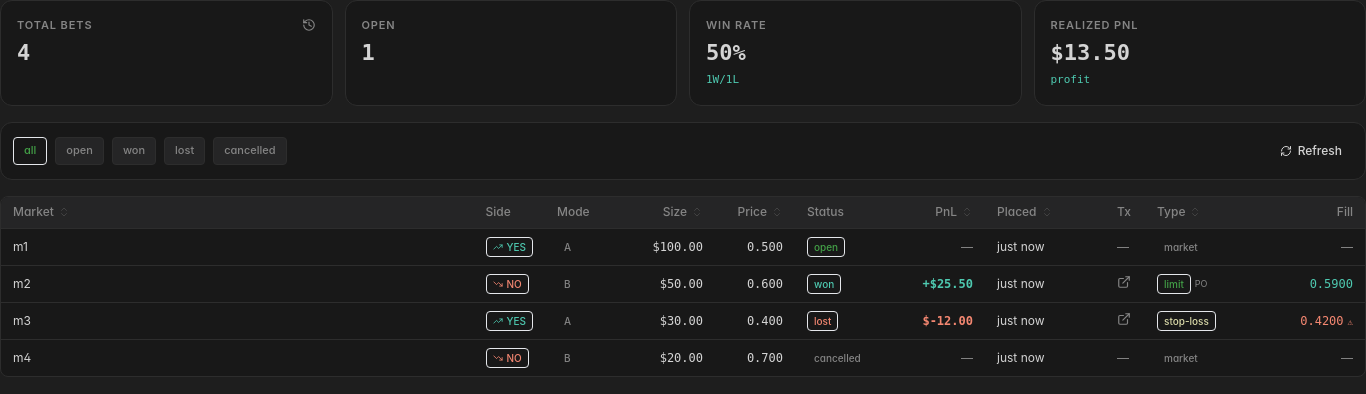
it: History (extended) › filters to only won when won chip is clicked
Check: the link "m1" is shown, box [13, 239, 28, 254]
Click the button "won" at x=134, y=150, box [112, 136, 156, 164]
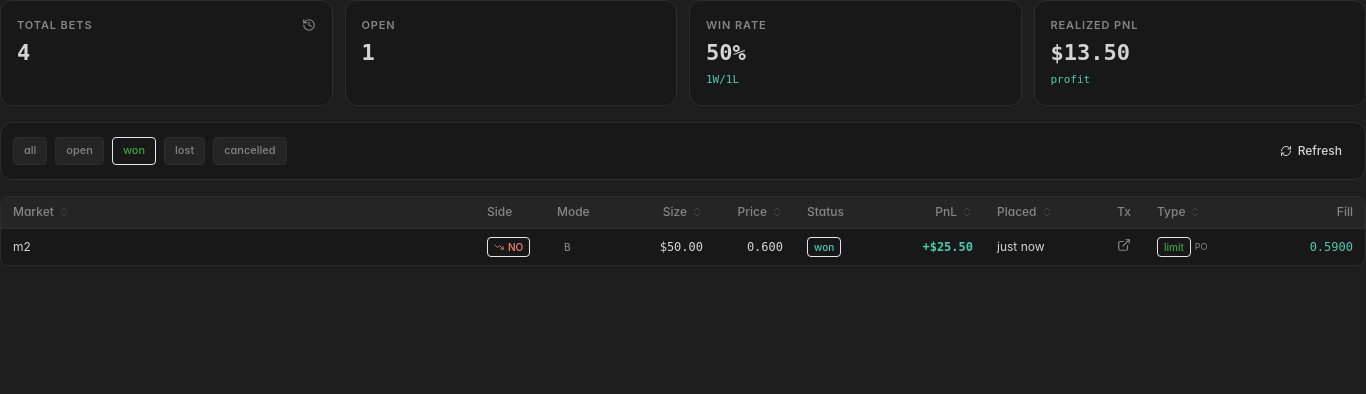
Check: the link "m2" is shown, box [13, 239, 31, 254]
Check: the link "m1" is gone
